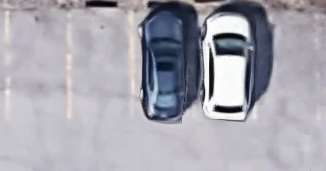Occupied: (131, 9, 193, 118), (192, 9, 254, 118)
Vacant: (68, 8, 132, 119), (6, 8, 69, 120), (254, 9, 318, 118)
